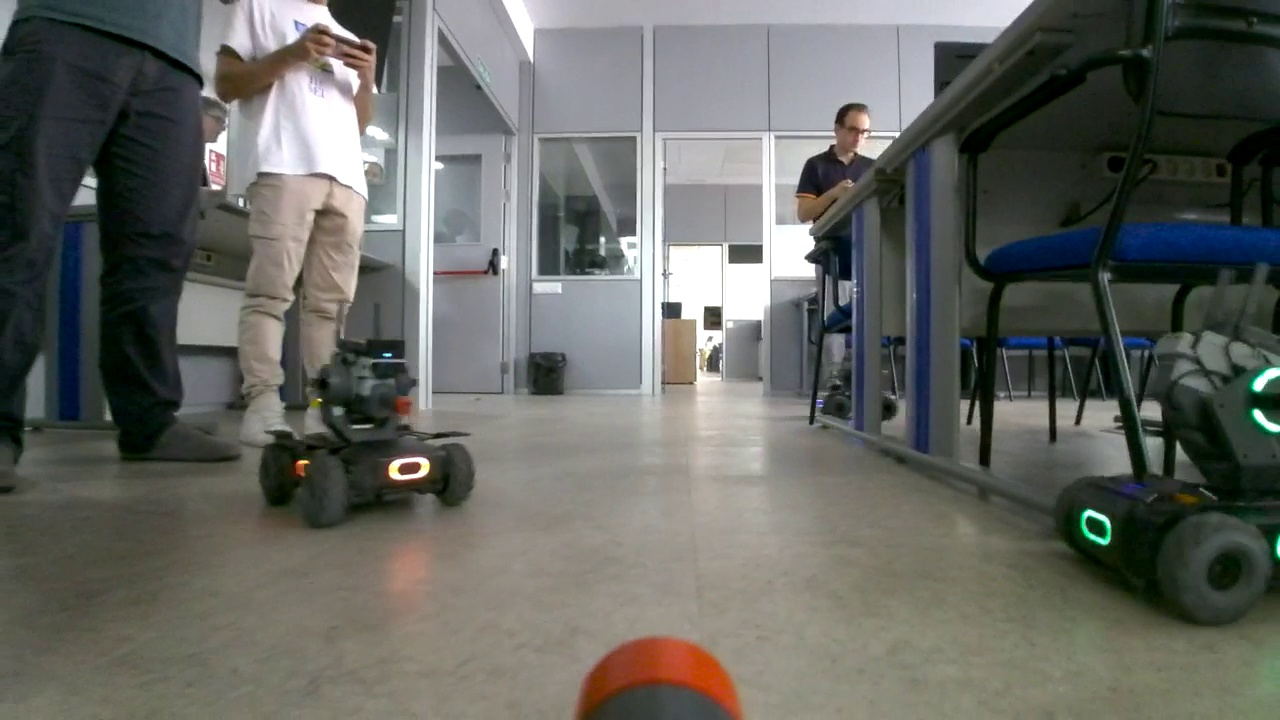robot: (1048, 268, 1280, 628), (257, 299, 473, 528), (822, 348, 901, 425)
